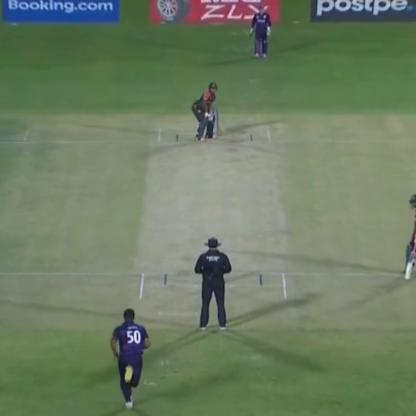bat: (401, 224, 415, 280), (200, 104, 226, 134)
pitch: (138, 122, 298, 322)
